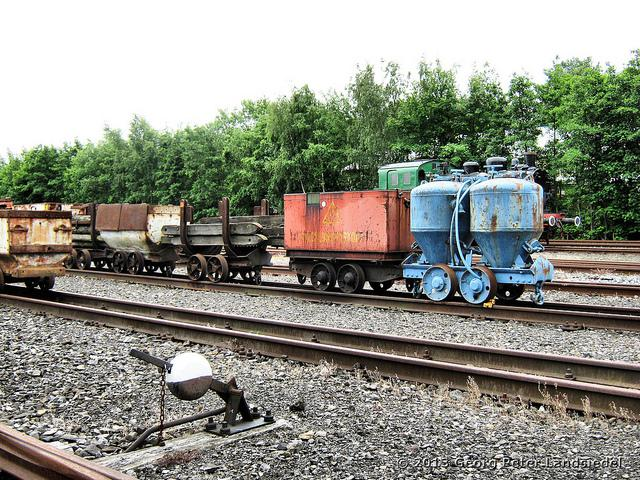Train: (72, 159, 554, 306), (4, 207, 72, 299)
